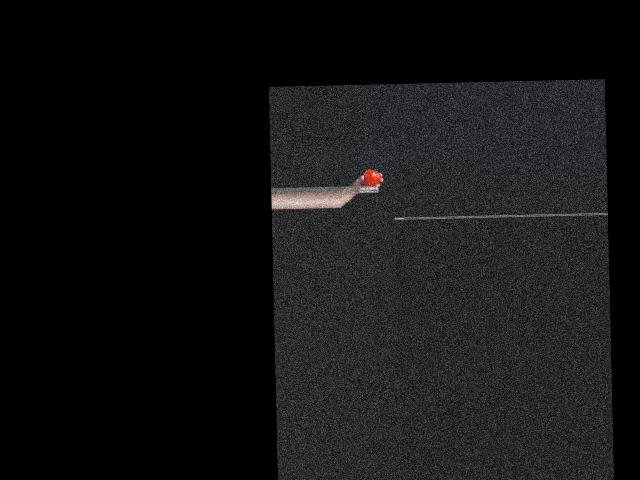tomato: (363, 168, 381, 186)
